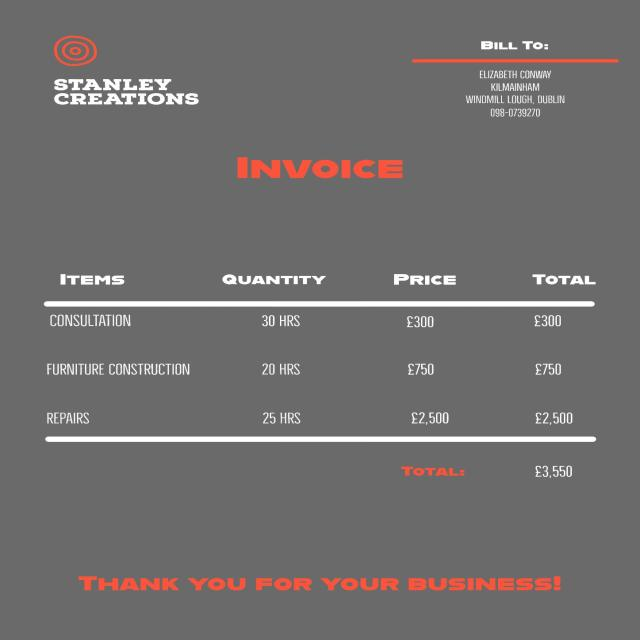paragraph: (70, 568, 573, 601), (458, 33, 582, 120), (227, 147, 412, 188), (44, 66, 220, 109), (392, 458, 586, 486)
table: (37, 266, 617, 434)
